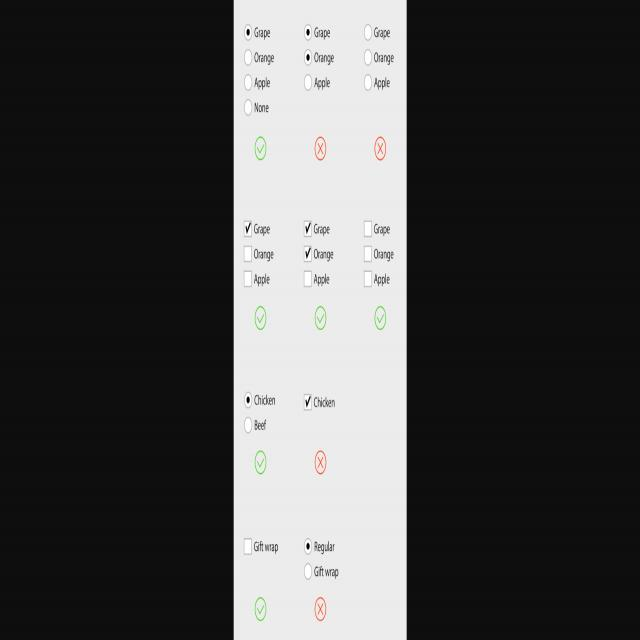checkbox: (253, 304, 268, 333), (374, 303, 388, 332), (253, 448, 267, 477), (253, 134, 267, 162), (313, 304, 327, 332), (255, 594, 268, 624), (303, 244, 312, 265), (243, 218, 252, 238), (304, 218, 312, 238), (304, 393, 312, 412)
radio: (303, 47, 313, 66), (304, 22, 313, 42), (303, 536, 312, 556), (244, 390, 252, 410), (244, 23, 252, 41)
